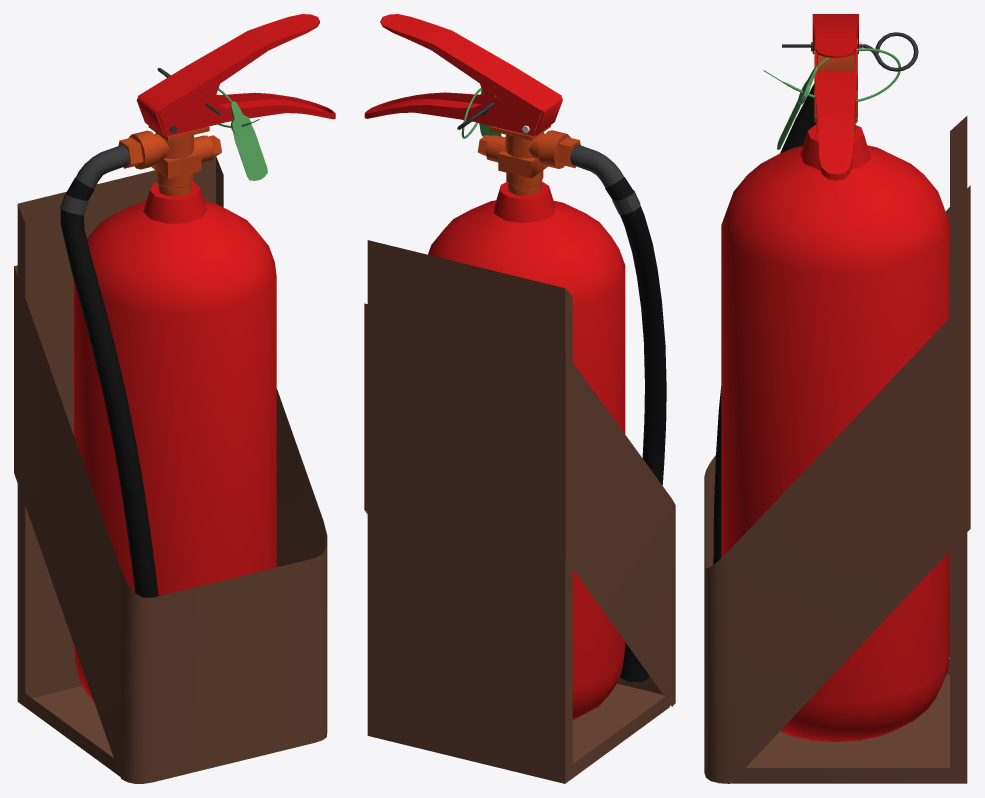
3 views of the same model, side by side, from view 1: azimuth 30°, elevation 25°; view 2: azimuth 150°, elevation 25°; view 3: azimuth 270°, elevation 25° (orthographic). The views are drawn at different scales.
Visible parts, largest first — view 1: FE_2_LOD0, FE_2_wall_LOD0; view 2: FE_2_wall_LOD0, FE_2_LOD0; view 3: FE_2_LOD0, FE_2_wall_LOD0.
Boxes of the visible parts, bbox=[...] form: FE_2_LOD0: bbox=[60, 14, 335, 701]; FE_2_wall_LOD0: bbox=[14, 156, 327, 783]; FE_2_wall_LOD0: bbox=[364, 240, 675, 783]; FE_2_LOD0: bbox=[364, 14, 666, 719]; FE_2_LOD0: bbox=[713, 14, 950, 741]; FE_2_wall_LOD0: bbox=[704, 116, 970, 783].
Size of what is drawn, in the model's own units: 13.69 by 31.88 by 10.25.
